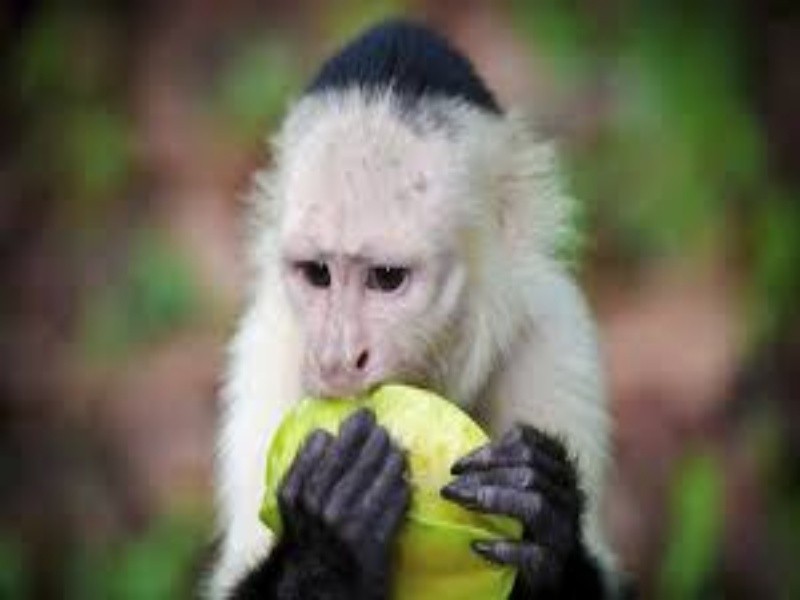monkey: (194, 42, 637, 585)
